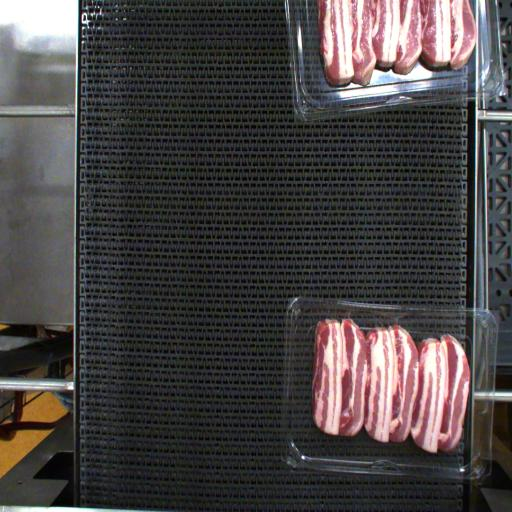packaging-error: (341, 306, 353, 322), (389, 315, 401, 327)
